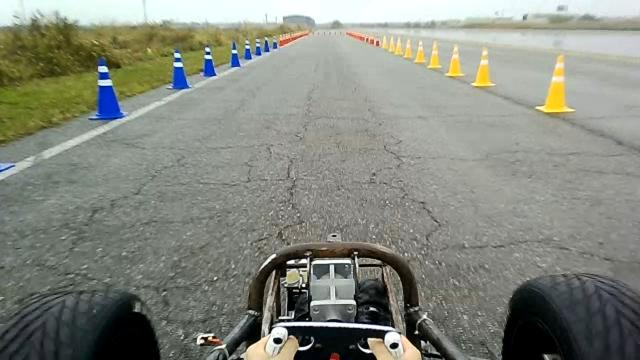blue cone: (88, 56, 128, 120), (166, 47, 191, 90), (200, 44, 217, 78), (229, 41, 241, 67), (244, 38, 252, 60), (173, 48, 182, 63), (255, 37, 262, 56), (263, 37, 271, 52)
yellow cone: (534, 54, 576, 113), (471, 47, 496, 87), (445, 44, 465, 77), (427, 40, 442, 69), (414, 40, 426, 63), (403, 38, 413, 58), (394, 36, 404, 55), (388, 36, 396, 52)
